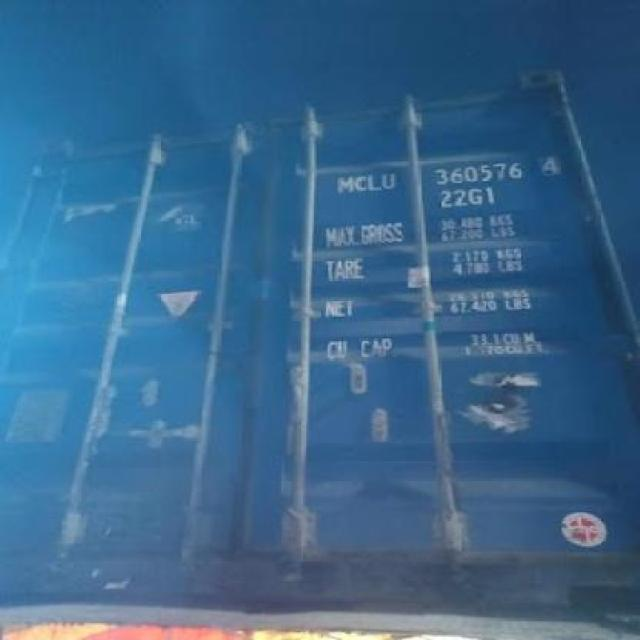ISO: (438, 187, 498, 210)
container_number: (338, 156, 564, 196)
